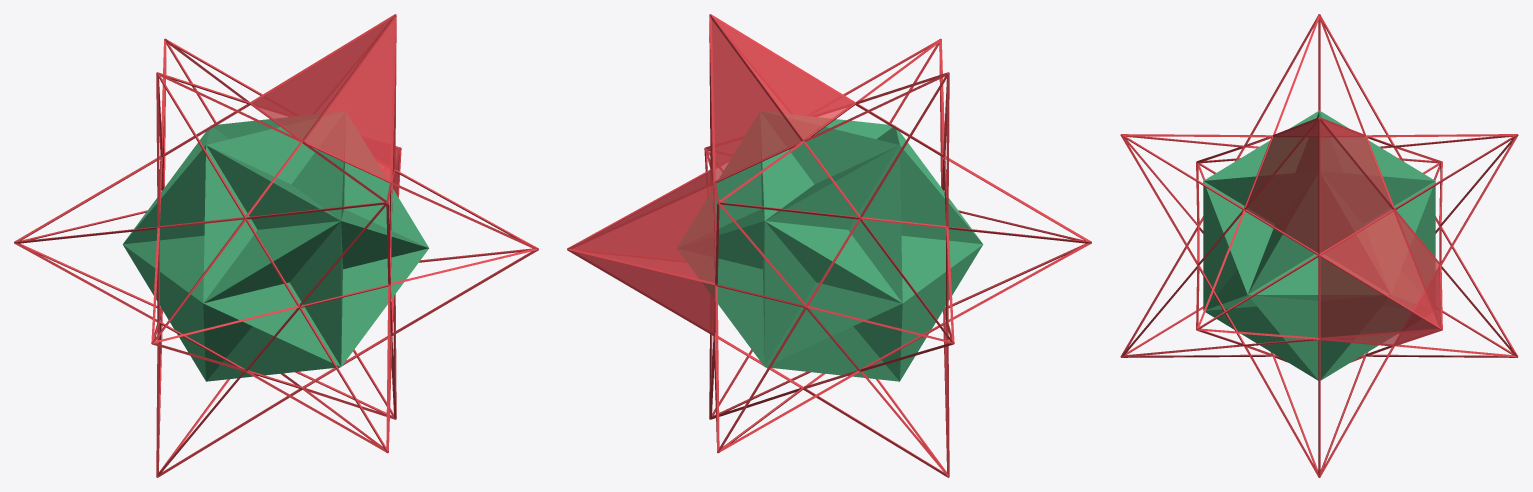
The model's file is dualidad2.glb.
3 renders of one model, left to right at view 1: azimuth 30°, elevation 25°; view 2: azimuth 150°, elevation 25°; view 3: azimuth 270°, elevation 25°, orthographic. The views are drawn at different scales.
Visible parts, largest first — view 1: Solid.001, Solid.003, Solid.010; view 2: Solid.001, Solid.010, Solid.003; view 3: Solid.001, Solid.010, Solid.003.
Part boxes in pixels (x1=…): Solid.001: x1=122, y1=111, x2=429, y2=381; Solid.003: x1=14, y1=14, x2=538, y2=477; Solid.010: x1=253, y1=19, x2=399, y2=195; Solid.001: x1=677, y1=111, x2=983, y2=381; Solid.010: x1=573, y1=19, x2=852, y2=333; Solid.003: x1=567, y1=14, x2=1091, y2=477; Solid.001: x1=1203, y1=110, x2=1435, y2=380; Solid.010: x1=1246, y1=120, x2=1440, y2=344; Solid.003: x1=1120, y1=14, x2=1518, y2=477.
Bounding box in the file's own units: 5.13 × 5.13 × 5.13.
